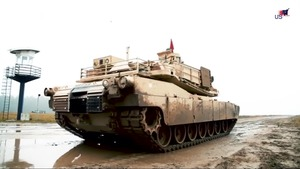abrams: (43, 55, 244, 150)
